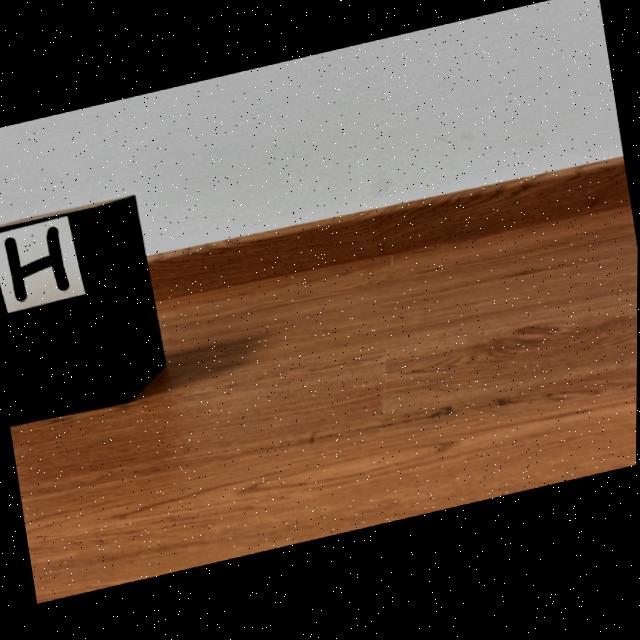H: (5, 229, 70, 302)
